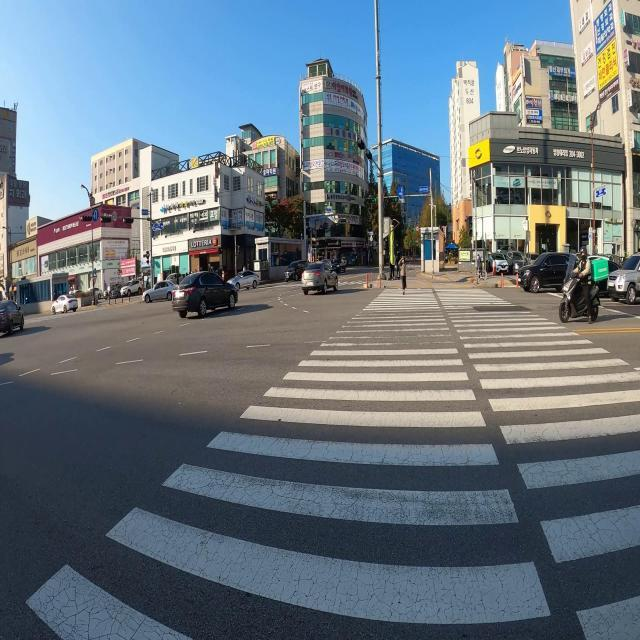crosswalk: (0, 288, 640, 640), (0, 308, 111, 330), (248, 281, 369, 289), (386, 265, 422, 267)
